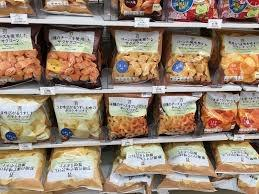snack: (43, 24, 103, 89), (109, 26, 163, 85), (154, 91, 202, 136)
